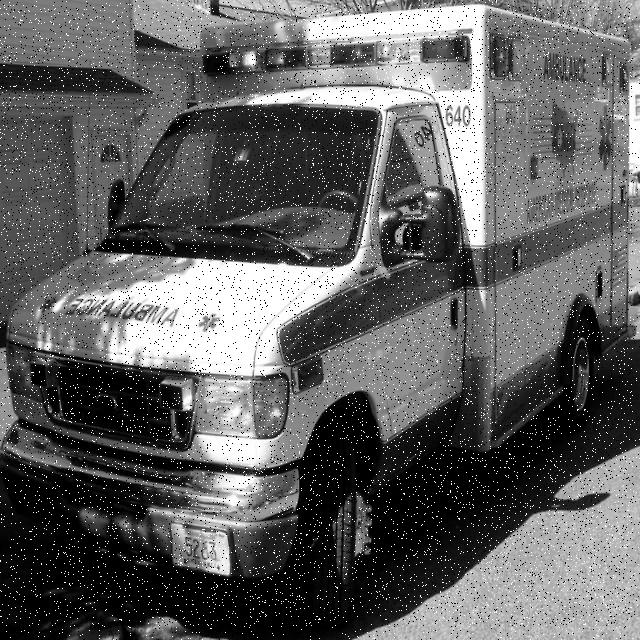Ambulance: (0, 5, 633, 626)
